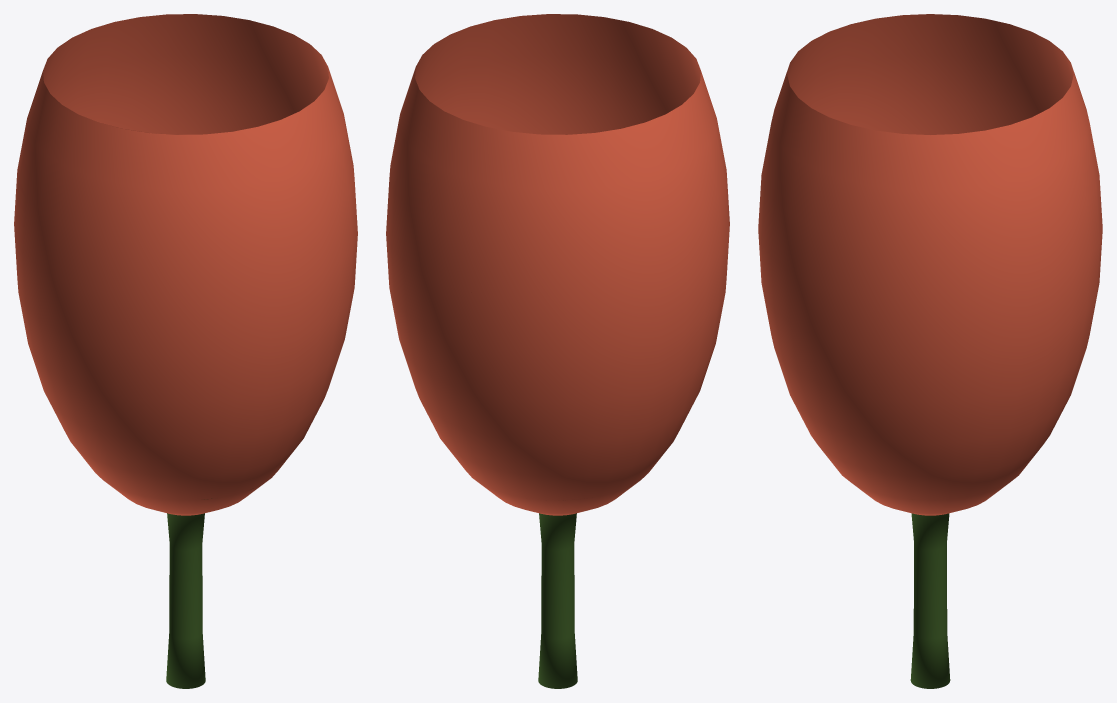
File: flower.glb
The picture shows the model from 3 angles, left to right: view 1: azimuth 30°, elevation 25°; view 2: azimuth 150°, elevation 25°; view 3: azimuth 270°, elevation 25°; orthographic projection.
Parts seen in each view (by area): view 1: 球体; view 2: 球体; view 3: 球体.
Part boxes in pixels (x1=…): 球体: x1=14, y1=14, x2=357, y2=688; 球体: x1=386, y1=14, x2=729, y2=688; 球体: x1=758, y1=14, x2=1102, y2=688.
Bounding box in the file's own units: 0.416 × 0.8072 × 0.416.
Materials: 2 (2 with a texture image).
